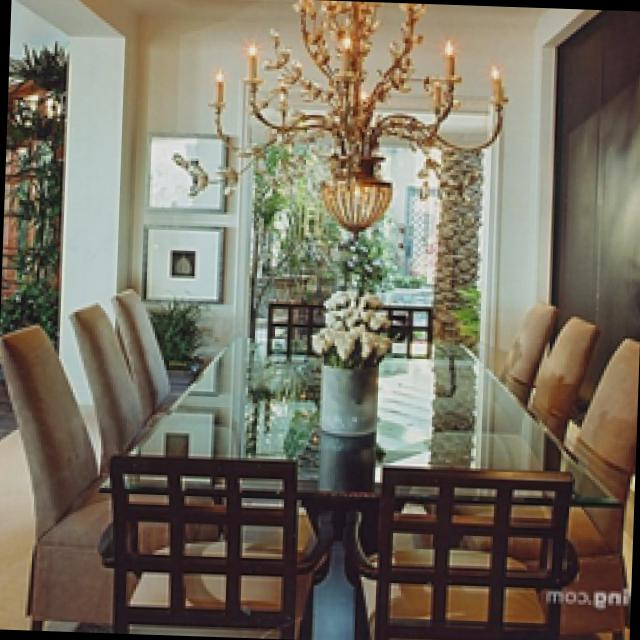bouquet: (314, 286, 394, 434)
ceiling beam: (130, 0, 544, 30)
ceiling lamps: (212, 0, 506, 226)
chair: (70, 300, 154, 470), (116, 284, 182, 424), (532, 311, 605, 436), (503, 293, 561, 400), (377, 302, 436, 354), (271, 298, 321, 352)
chair -occluded-: (99, 451, 336, 633), (346, 460, 572, 640), (1, 320, 116, 618), (564, 333, 636, 629)
door handle: (257, 108, 490, 341)
painting crop: (149, 129, 232, 209), (146, 221, 228, 299)
plant -x: (5, 33, 69, 338), (261, 143, 305, 251), (153, 292, 206, 368), (335, 227, 400, 285), (448, 280, 481, 348)
table -X: (102, 332, 619, 498)
